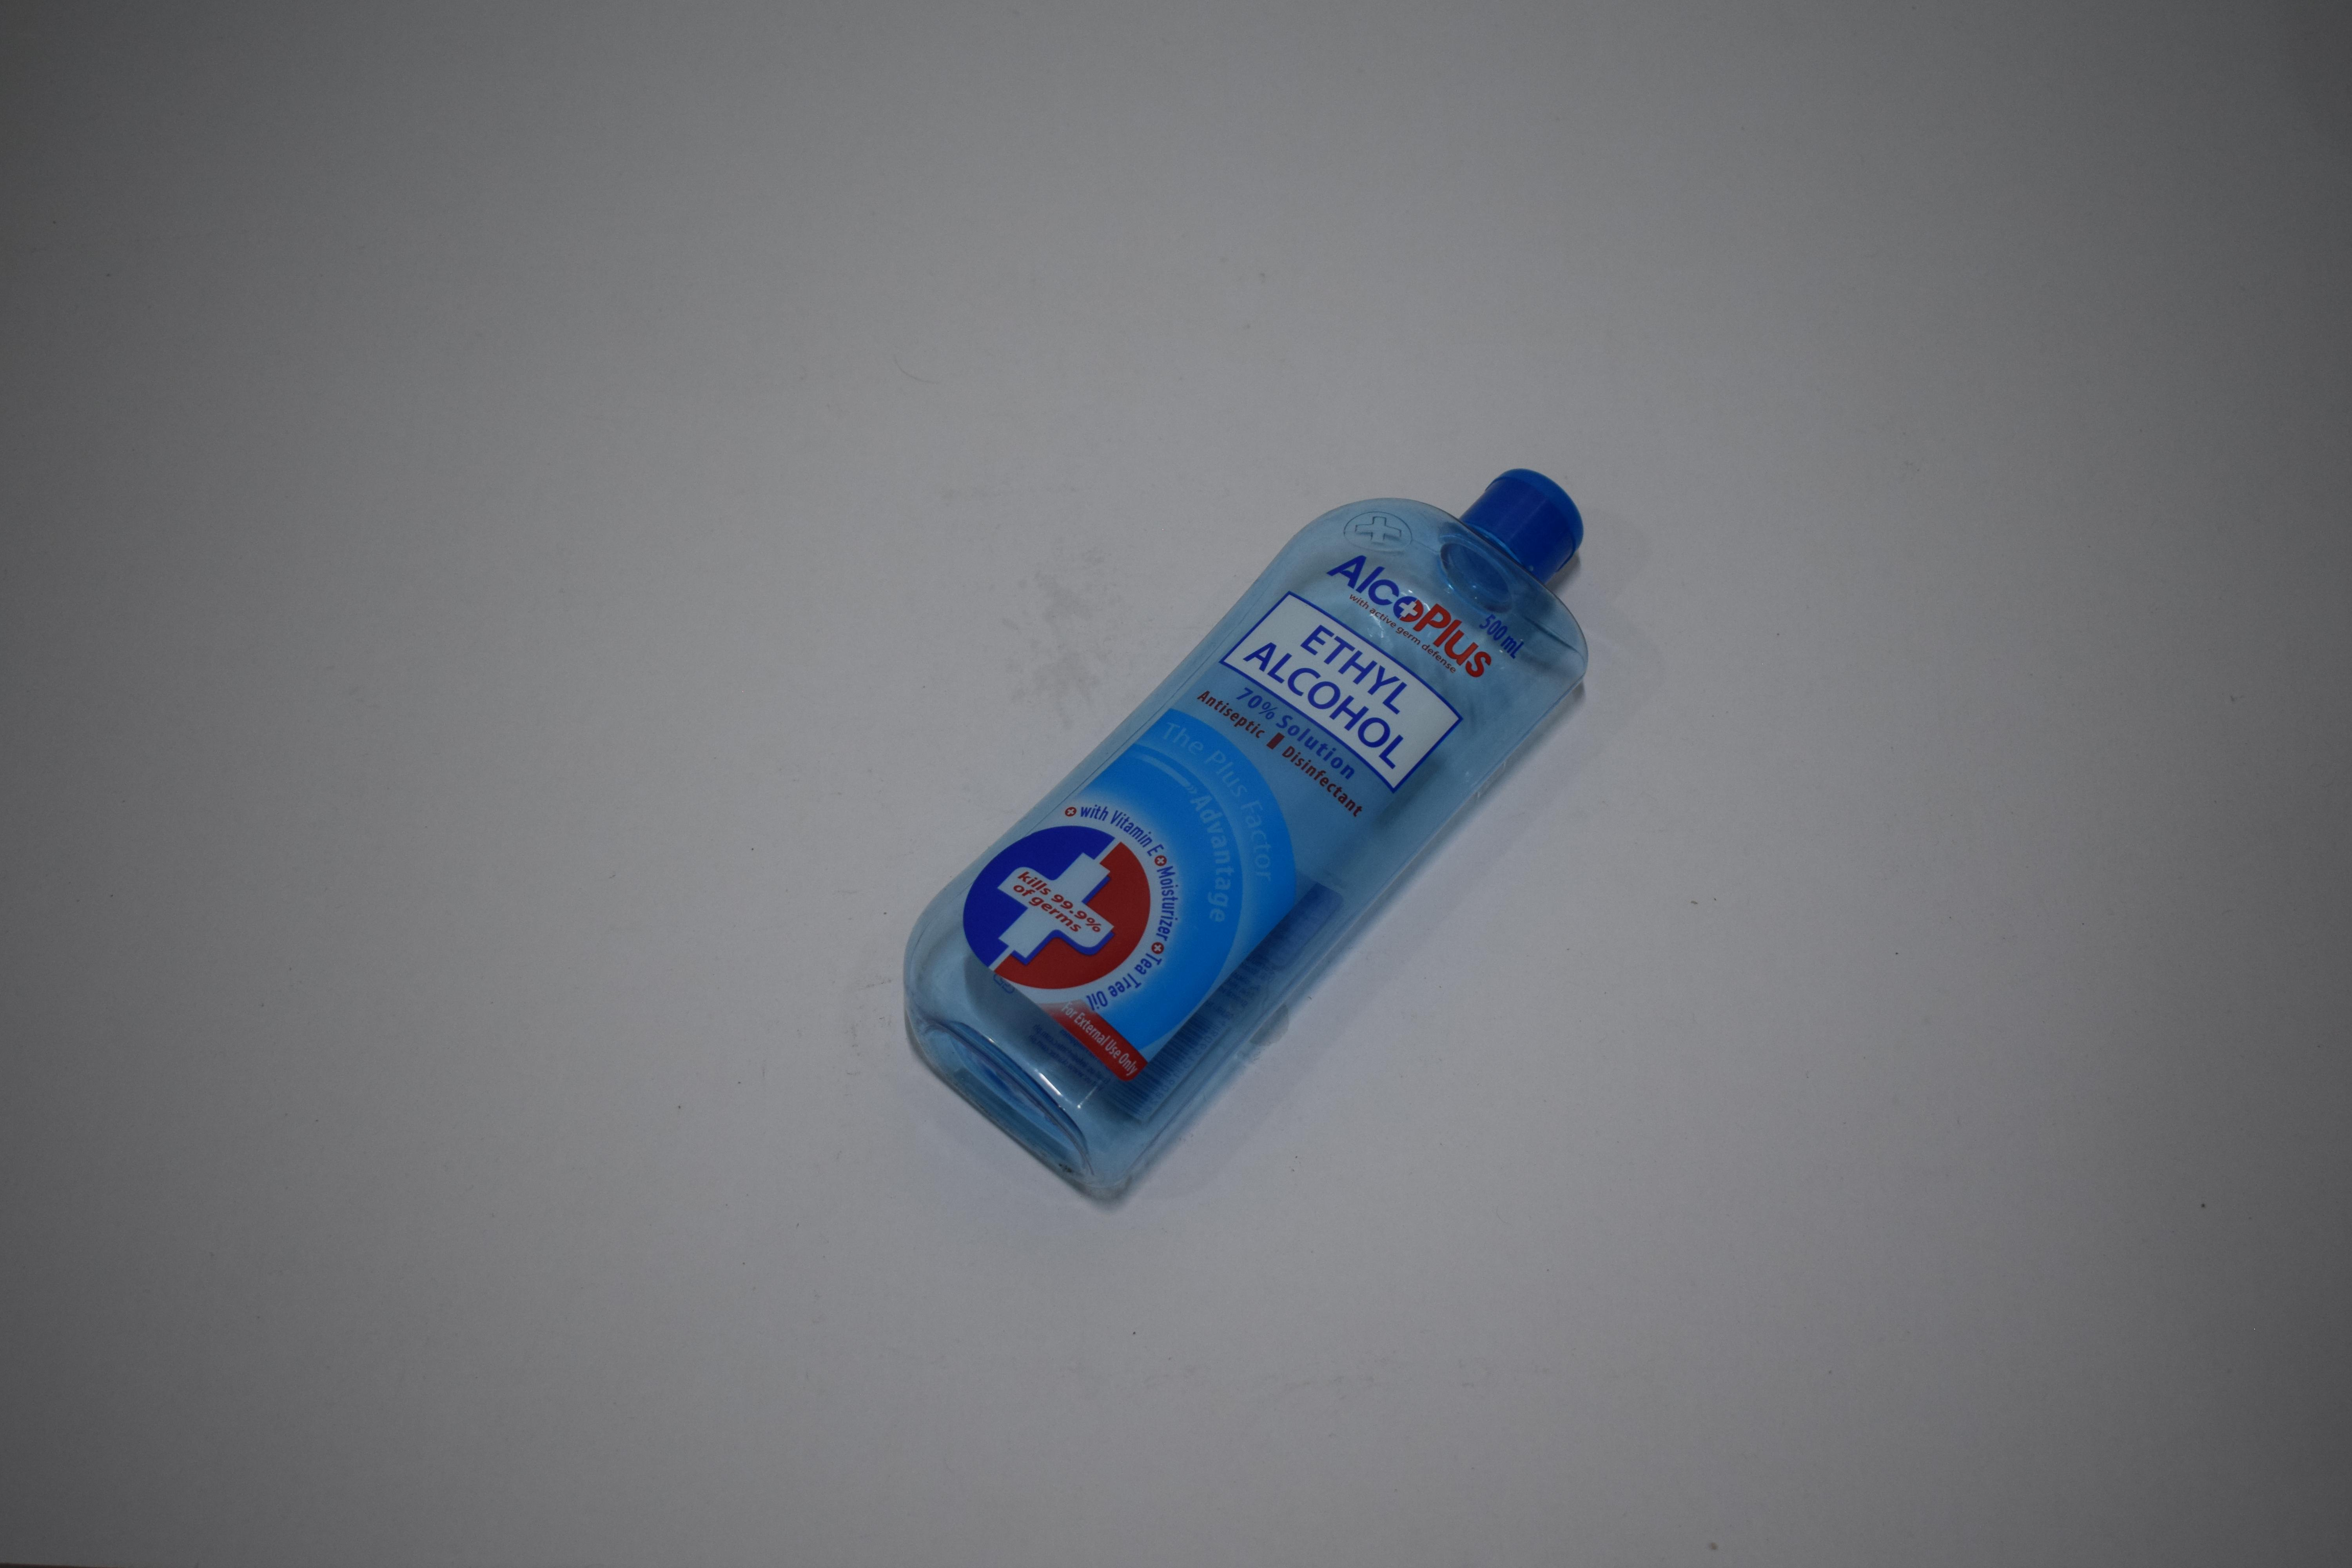bottle: (0, 0, 424, 415)
